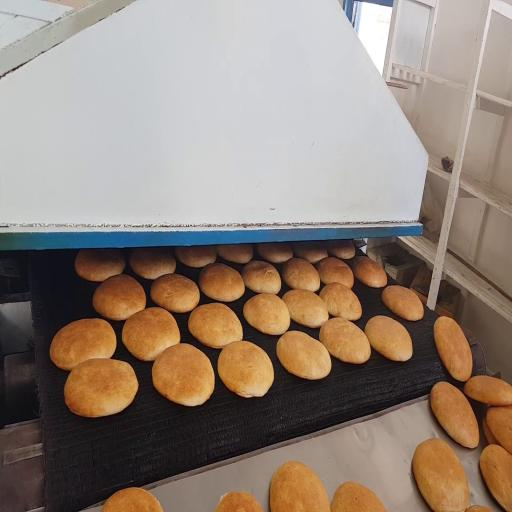bread: (64, 359, 138, 417), (412, 439, 469, 511), (152, 344, 214, 406), (50, 319, 116, 370), (430, 382, 479, 448), (218, 341, 274, 397), (122, 308, 180, 361), (270, 461, 330, 511), (276, 331, 331, 379), (434, 317, 472, 381), (188, 303, 242, 348), (93, 275, 146, 320), (319, 318, 370, 363), (365, 316, 412, 361), (480, 445, 511, 511), (243, 293, 290, 335), (151, 274, 199, 312), (283, 290, 328, 328), (199, 264, 244, 301), (75, 249, 125, 282), (331, 482, 386, 511), (320, 283, 361, 320), (130, 247, 175, 280), (382, 285, 423, 320), (464, 376, 511, 406), (102, 488, 162, 511), (282, 258, 320, 292), (242, 261, 281, 294), (486, 407, 511, 453), (316, 257, 353, 288), (352, 256, 387, 288), (174, 245, 216, 268), (216, 492, 262, 511), (256, 242, 293, 263), (217, 244, 253, 264), (293, 242, 327, 263), (327, 240, 355, 259), (482, 416, 499, 444), (466, 505, 491, 511)
